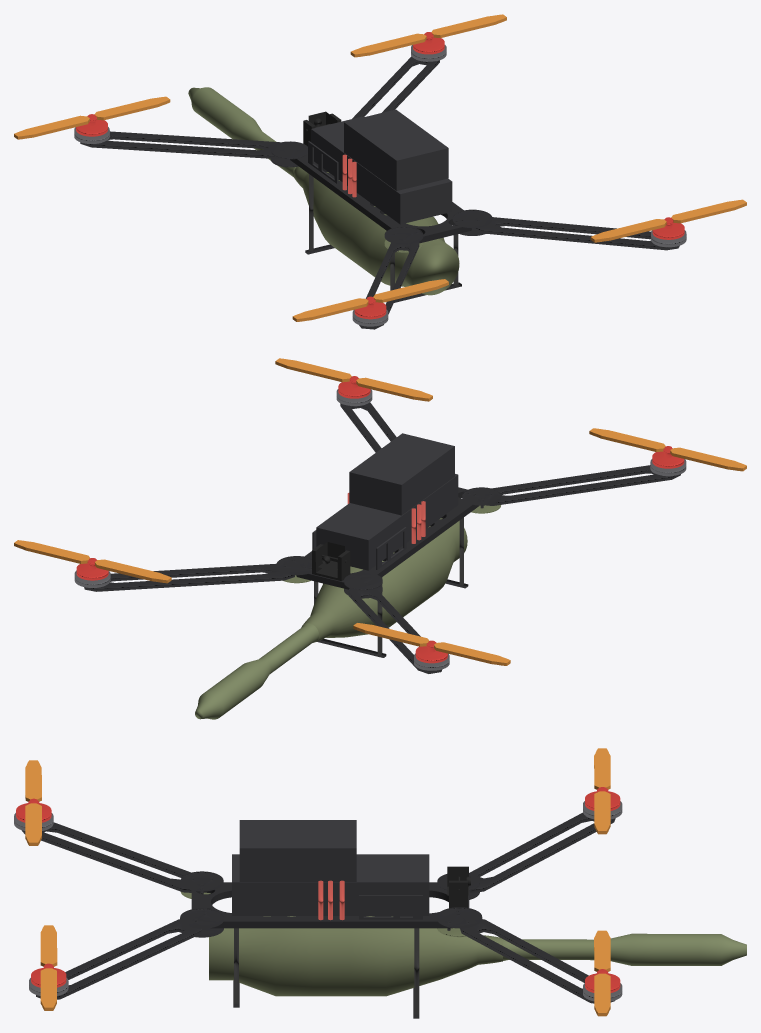
The model's file is fpv.glb.
3 views of the same model, one above another, from view 1: azimuth 30°, elevation 25°; view 2: azimuth 150°, elevation 25°; view 3: azimuth 270°, elevation 25° (orthographic). The views are drawn at different scales.
Visible parts, largest first — view 1: Cube; view 2: Cube; view 3: Cube.
Boxes of the visible parts, x1,y1,x2,y2 form: Cube: (14, 14, 746, 329); Cube: (14, 358, 746, 719); Cube: (14, 748, 746, 1018).
Bounding box in the file's own units: 0.43 × 0.1249 × 0.5035.
